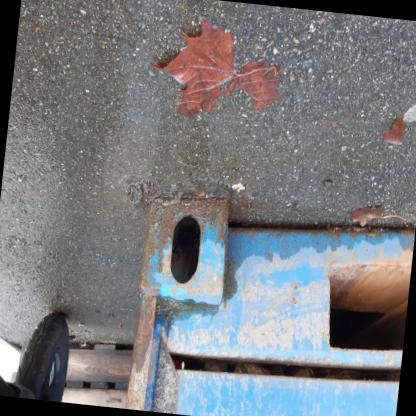CornerCasting: (136, 187, 233, 313)
